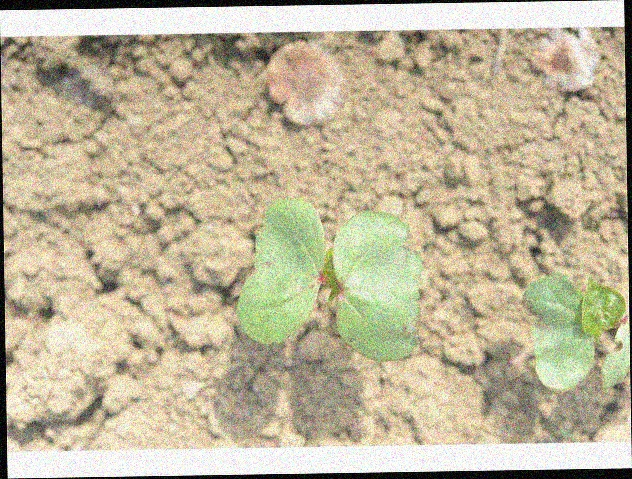cotton: (236, 193, 423, 363), (521, 272, 628, 394)
